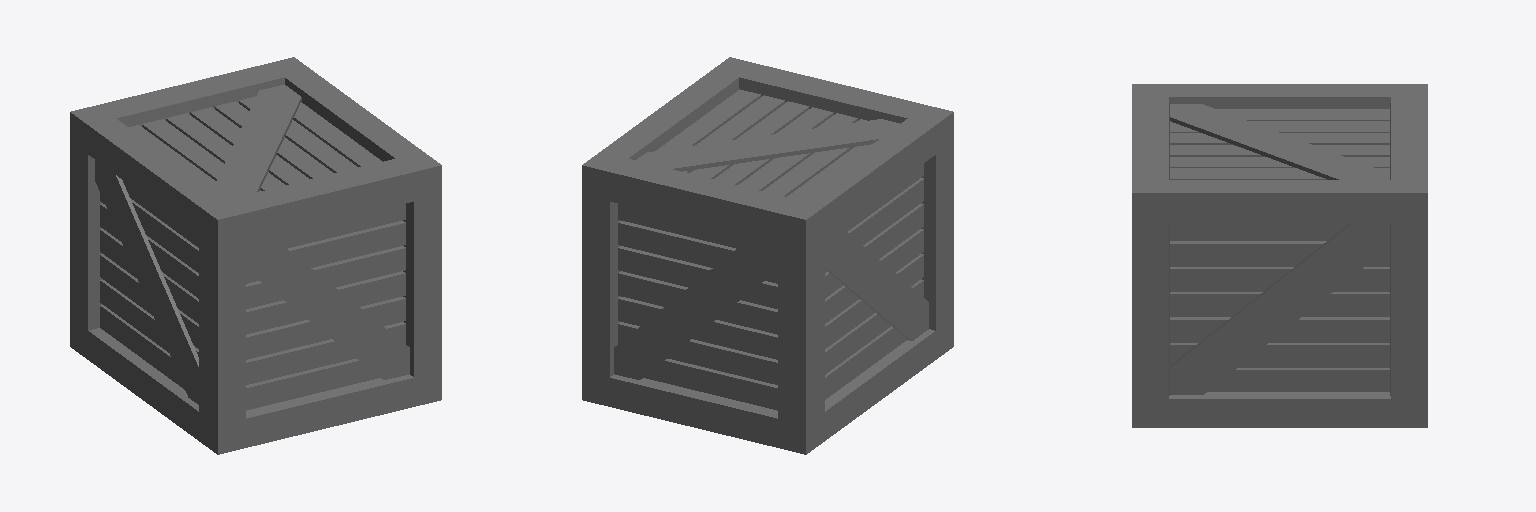
3 views of the same model, side by side, from view 1: azimuth 30°, elevation 25°; view 2: azimuth 150°, elevation 25°; view 3: azimuth 270°, elevation 25° (orthographic).
Parts seen in each view (by area): view 1: Box_ZBrushPolyMesh3D; view 2: Box_ZBrushPolyMesh3D; view 3: Box_ZBrushPolyMesh3D.
Part boxes in pixels (x1,y1,x2,y2): Box_ZBrushPolyMesh3D: (70,57,441,454); Box_ZBrushPolyMesh3D: (582,57,953,454); Box_ZBrushPolyMesh3D: (1132,84,1427,427).
Size of the model in its own units: 1.75 by 1.75 by 2.